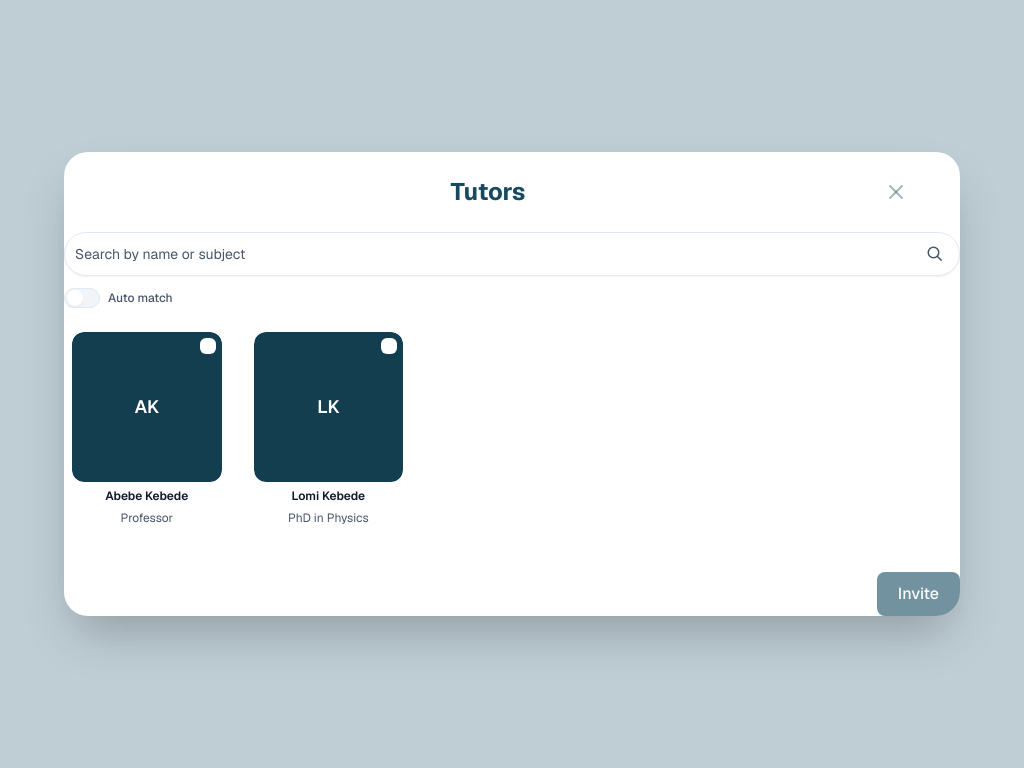
it: TutorSelectionModal › accepts a custom empty message
This screenshot has width=1024, height=768.
Step 1. Type "zzzz" into the search field named "Search tutors" → (494, 254), box [75,238,913,270]
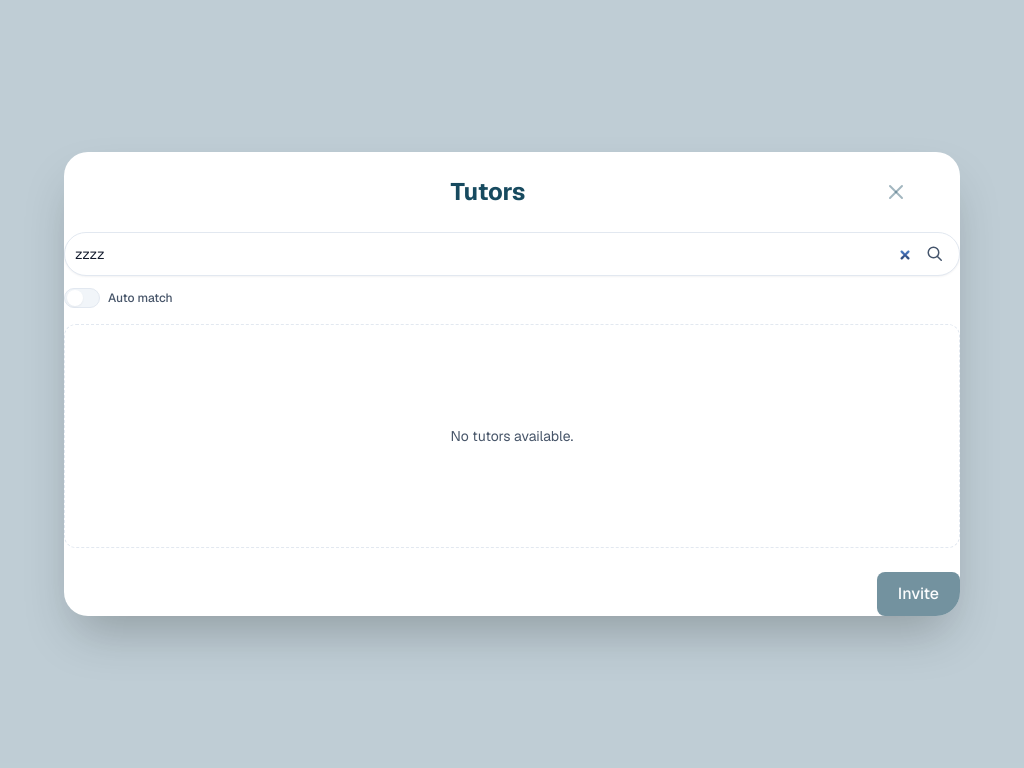
Result: the text "No tutors available." is shown at [64,324,960,548]
